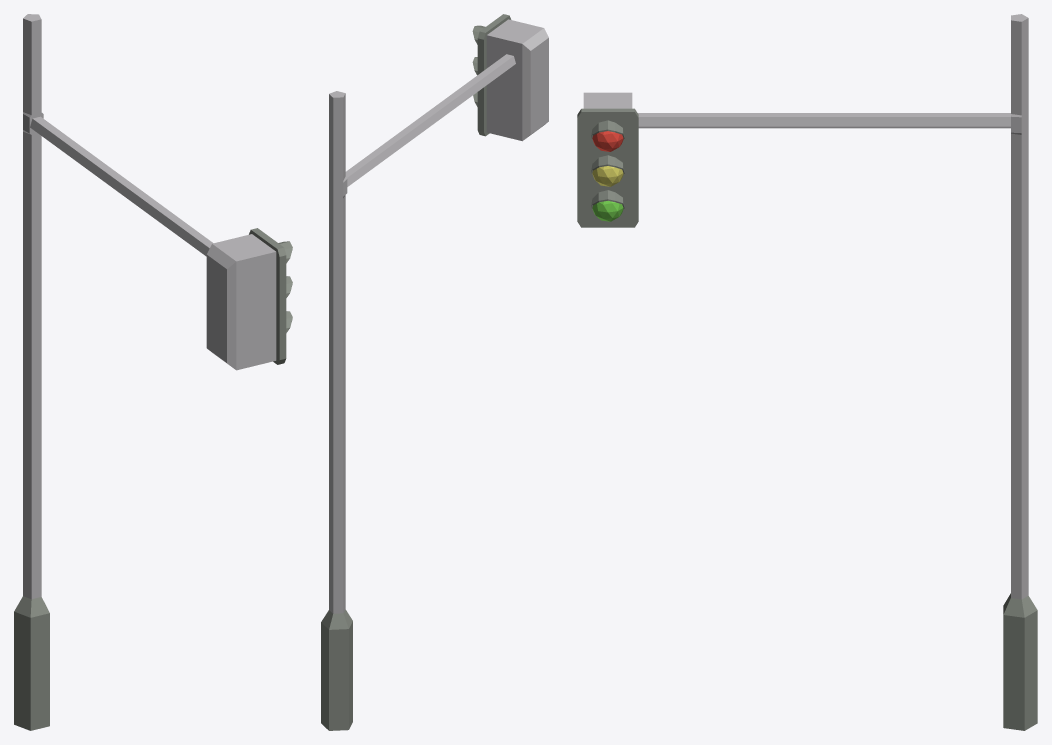
File: quaternius-street-traffic-light-2.glb
3 views of the same model, side by side, from view 1: azimuth 30°, elevation 25°; view 2: azimuth 150°, elevation 25°; view 3: azimuth 270°, elevation 25° (orthographic). The views are drawn at different scales.
Parts seen in each view (by area): view 1: TrafficLight_2; view 2: TrafficLight_2; view 3: TrafficLight_2.
Boxes of the visible parts, x1,y1,x2,y2 form: TrafficLight_2: (14, 14, 292, 730); TrafficLight_2: (321, 14, 548, 730); TrafficLight_2: (577, 14, 1037, 730).
Size of the model in its own units: 0.1229 by 1.13 by 0.6707.
Materials: 1 (1 with a texture image).
